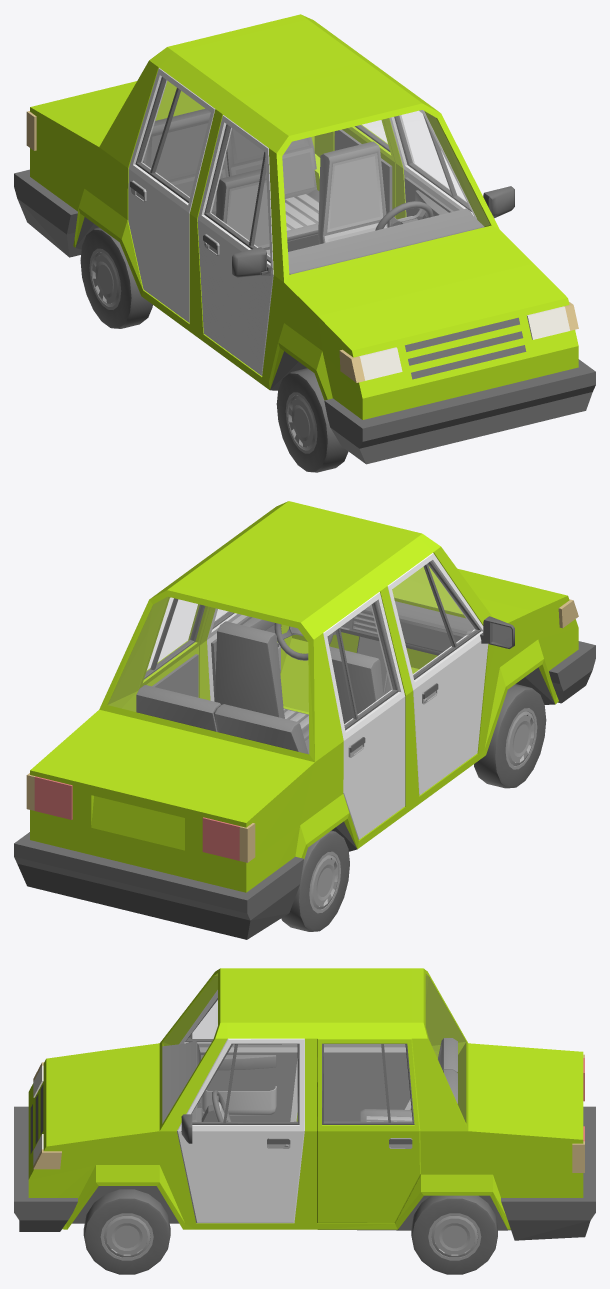
The picture shows the model from 3 angles, top to bottom: view 1: azimuth 30°, elevation 25°; view 2: azimuth 150°, elevation 25°; view 3: azimuth 270°, elevation 25°; orthographic projection. The views are drawn at different scales.
Parts seen in each view (by area): view 1: Chassis_Chassis_0, Windows_Windows_0, Chassis_Bumpers_0, Interior_InteriorPanel_0, FR_Door_Chassis_0, RR_Door_Chassis_0, Interior_Handler_0, RR_Door_Windows_0, FR_Door_Windows_0, FR_Wheel_Tire_0, RR_Wheel_Tire_0, FR_Door_Bumpers_0 (+11 smaller); view 2: Chassis_Chassis_0, Windows_Windows_0, Chassis_Bumpers_0, Interior_InteriorPanel_0, FR_Door_Chassis_0, RR_Door_Chassis_0, FR_Door_Windows_0, RR_Door_Windows_0, FR_Wheel_Tire_0, RR_Wheel_Tire_0, Brake_Lights_Brake_lights_0, FR_Door_Bumpers_0 (+11 smaller); view 3: Chassis_Chassis_0, FL_Door_Chassis_0, RL_Door_Chassis_0, Chassis_Bumpers_0, Windows_Windows_0, FL_Door_Windows_0, RL_Door_Windows_0, RR_Door_InteriorPanel_0, FL_Wheel_Tire_0, RL_Wheel_Tire_0, FR_Door_InteriorPanel_0, Interior_InteriorPanel_0 (+9 smaller).
Boxes of the visible parts, x1,y1,x2,y2 form: Chassis_Chassis_0: (30,14,578,419); Windows_Windows_0: (156,82,489,273); Chassis_Bumpers_0: (14,169,595,464); Interior_InteriorPanel_0: (142,108,484,274); FR_Door_Chassis_0: (197,115,273,375); RR_Door_Chassis_0: (128,68,215,322); Interior_Handler_0: (226,153,386,255); RR_Door_Windows_0: (139,80,209,198); FR_Door_Windows_0: (208,127,269,258); FR_Wheel_Tire_0: (276,368,348,472); RR_Wheel_Tire_0: (80,227,152,328); FR_Door_Bumpers_0: (203,124,271,277); Chassis_Chassis_0: (30,501,578,892); Windows_Windows_0: (108,568,461,753); Chassis_Bumpers_0: (14,641,595,939); Interior_InteriorPanel_0: (136,601,473,754); FR_Door_Chassis_0: (387,553,488,795); RR_Door_Chassis_0: (323,592,405,839); FR_Door_Windows_0: (392,563,477,675); RR_Door_Windows_0: (328,604,395,726); FR_Wheel_Tire_0: (474,684,546,788); RR_Wheel_Tire_0: (281,830,349,931); Brake_Lights_Brake_lights_0: (34,776,239,860); FR_Door_Bumpers_0: (413,561,514,701); Chassis_Chassis_0: (28,968,583,1229); FL_Door_Chassis_0: (177,1038,304,1223); RL_Door_Chassis_0: (317,1038,420,1223); Chassis_Bumpers_0: (14,1085,595,1240); Windows_Windows_0: (164,974,465,1120); FL_Door_Windows_0: (192,1044,297,1122); RL_Door_Windows_0: (324,1044,411,1121); RR_Door_InteriorPanel_0: (324,1052,410,1121); FL_Wheel_Tire_0: (83,1189,170,1274); RL_Wheel_Tire_0: (411,1195,497,1274); FR_Door_InteriorPanel_0: (200,1052,297,1121); Interior_InteriorPanel_0: (162,1038,457,1123).
Bounding box in the file's own units: 5.2 × 4.99 × 11.18.
